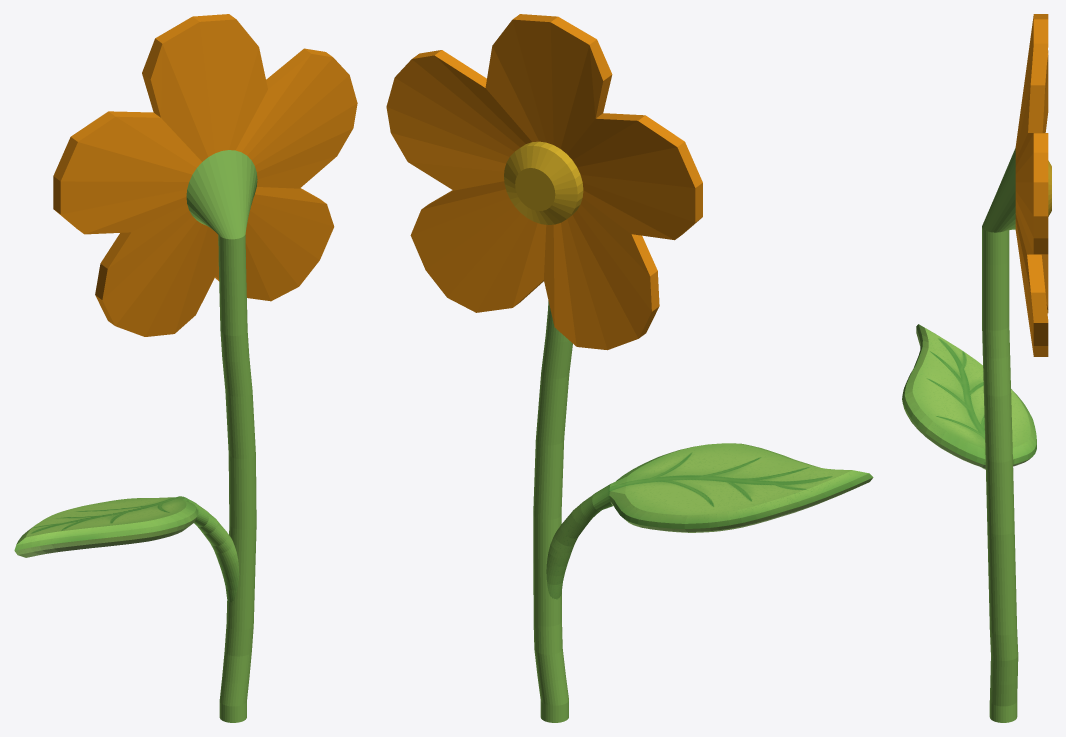
File: Flower.glb
3 renders of one model, left to right at view 1: azimuth 30°, elevation 25°; view 2: azimuth 150°, elevation 25°; view 3: azimuth 270°, elevation 25°, orthographic. The views are drawn at different scales.
Visible parts, largest first — view 1: Flower; view 2: Flower; view 3: Flower.
Part boxes in pixels (x1=…): Flower: x1=14, y1=14, x2=357, y2=722; Flower: x1=386, y1=14, x2=873, y2=722; Flower: x1=902, y1=14, x2=1051, y2=722.
Size of the model in its own units: 2.55 by 4.17 by 0.822.
2 materials, 2 textured.
